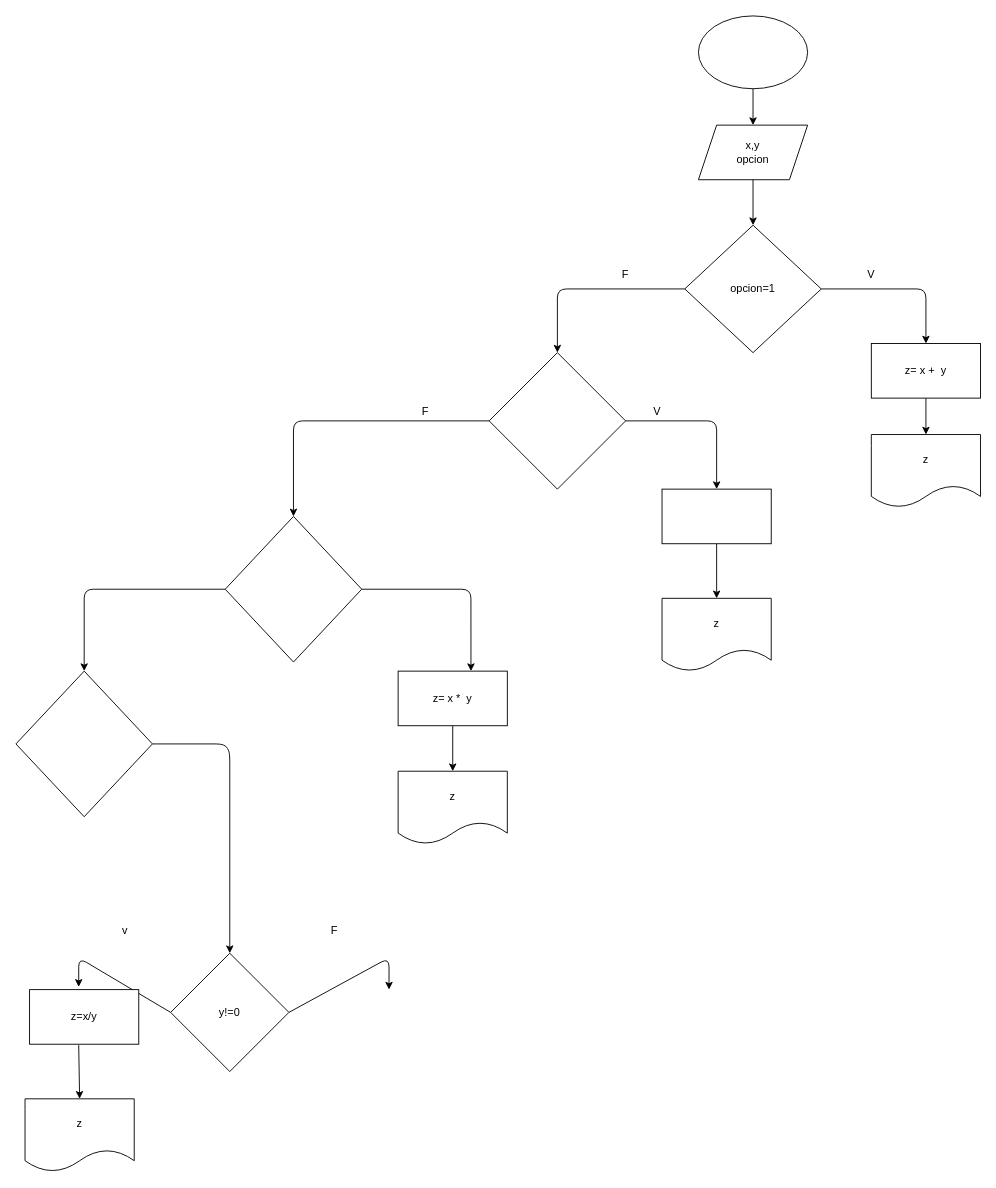
This 996x1188 diagram has some shape labels left out. Here are the shapes that lost their labels. From the top down, the centre of each, then its label:
At (x=753, y=52): "Inicio".
At (x=557, y=420): "opcion=2".
At (x=716, y=516): "z= x - y".
At (x=293, y=589): "opcion = 3".
At (x=83, y=743): "opcion = 4 and y !=0".
